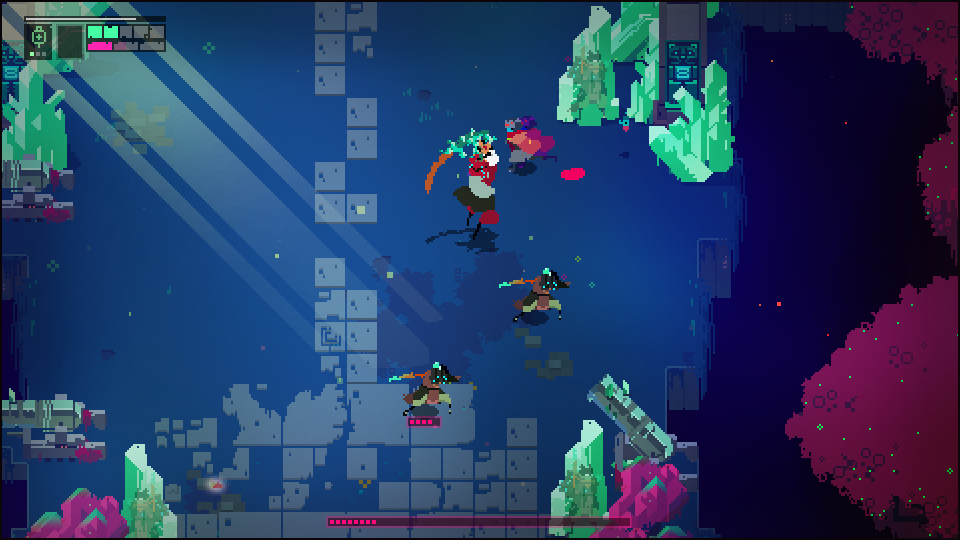hanged_man: (424, 125, 501, 244)
player: (501, 119, 547, 175)
